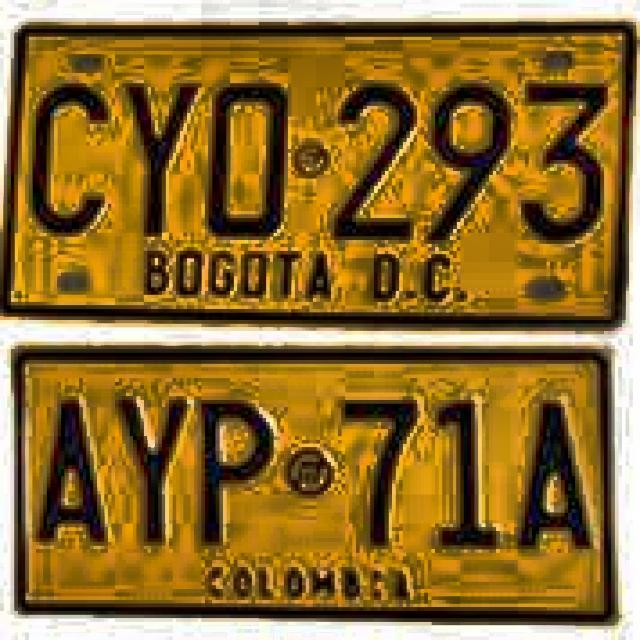plate: (6, 26, 629, 320), (17, 351, 611, 614)
